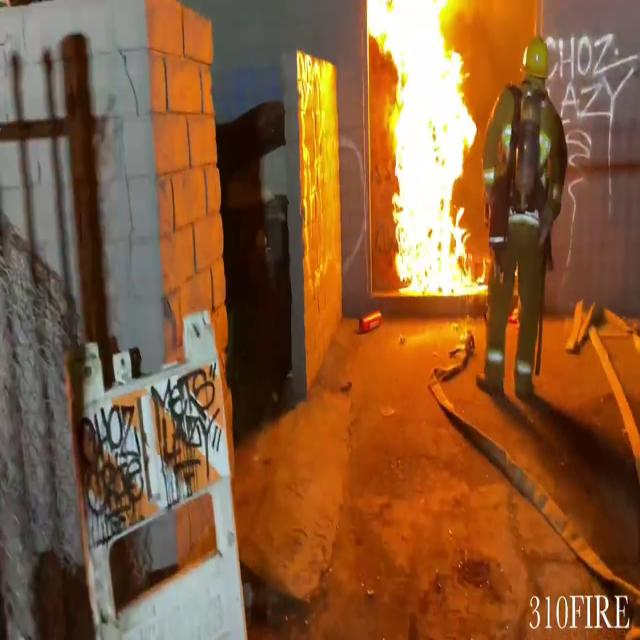Fire: (368, 0, 484, 299)
